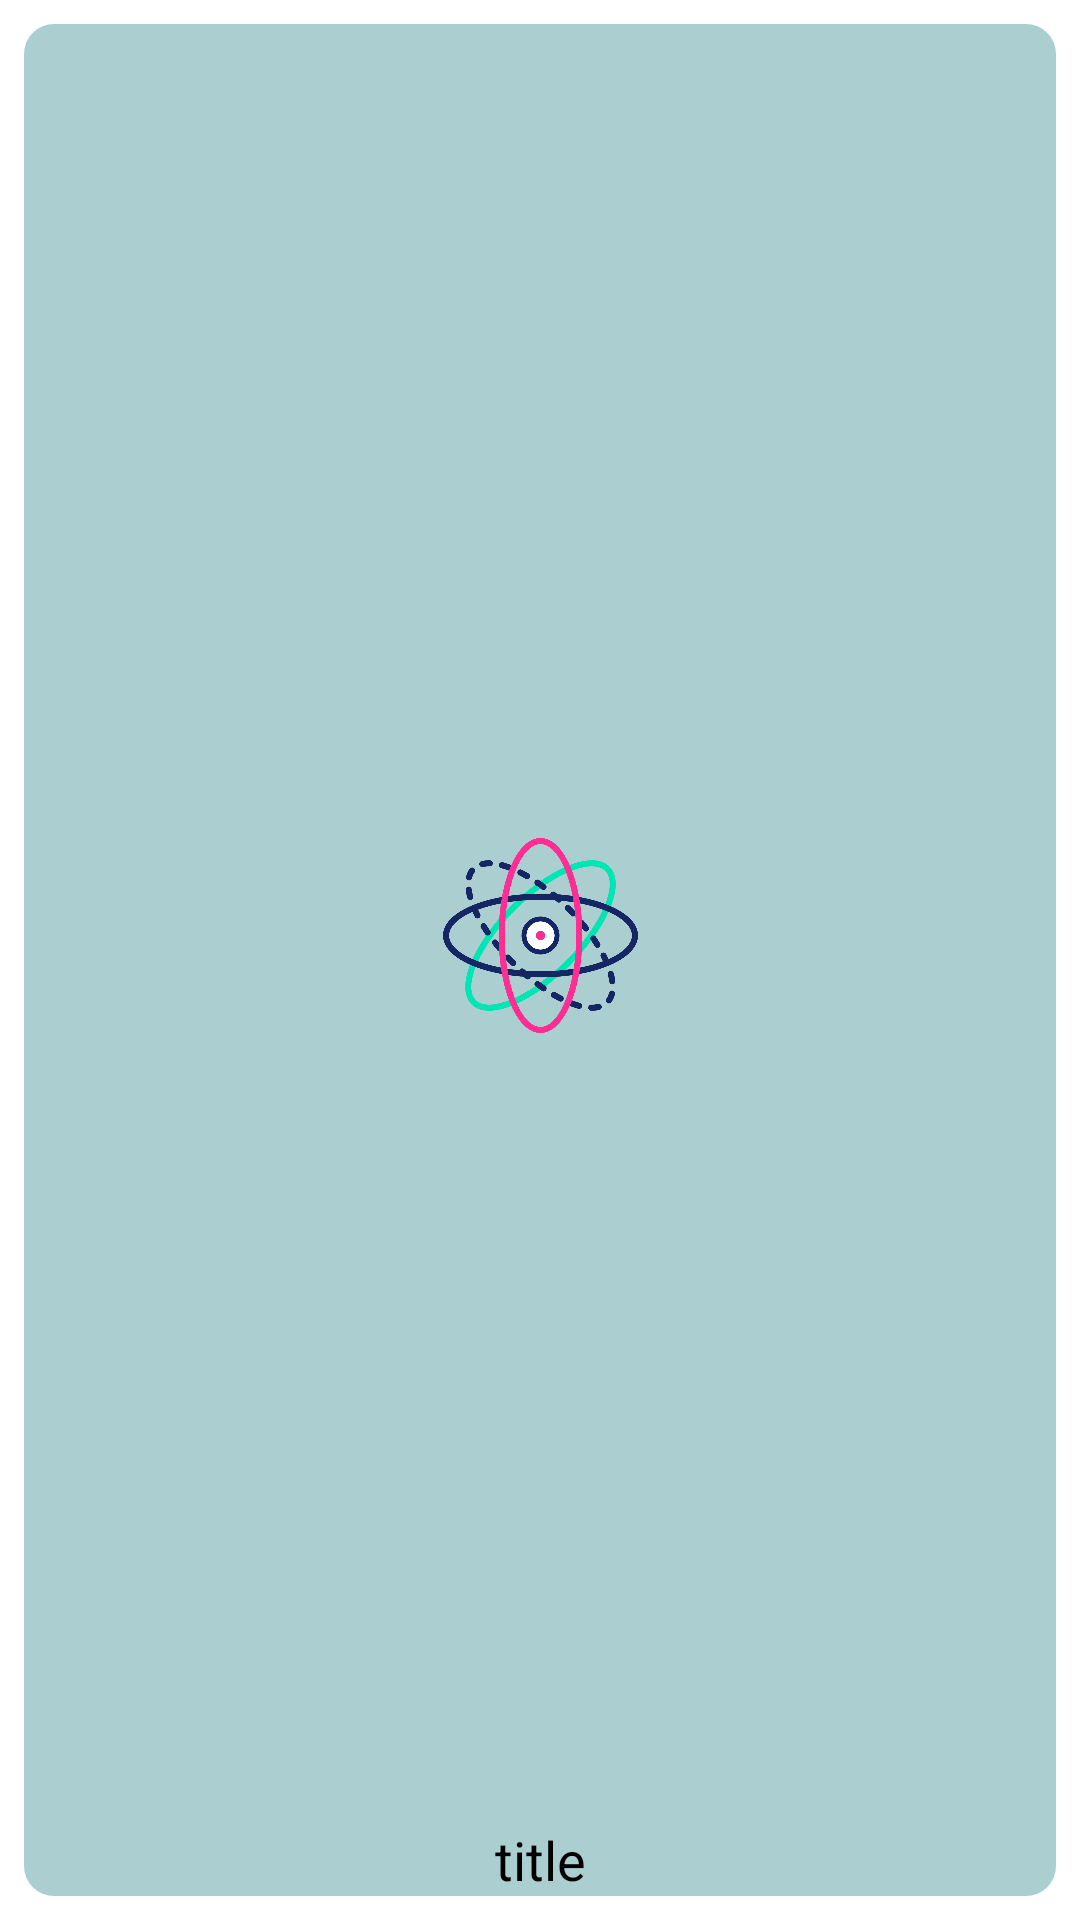

Where to tap for icons on this 1080w x 1920h app screen, as [x,y]:
physics: [540,935]
